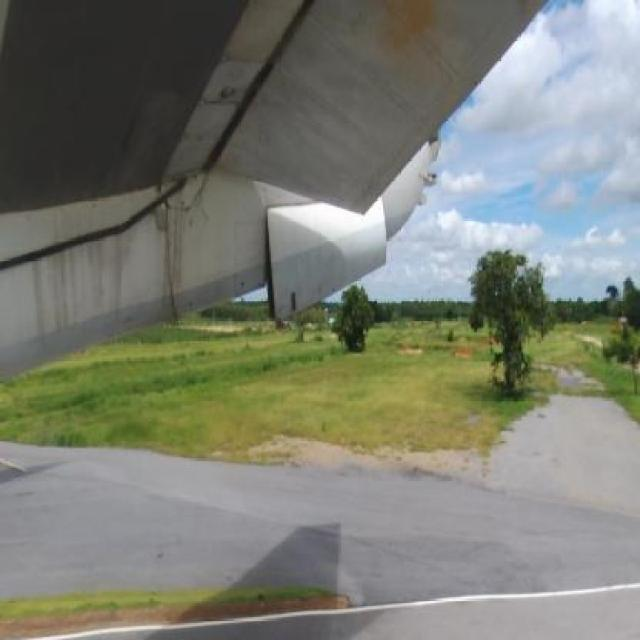Rust: (24, 220, 148, 346), (348, 2, 468, 126), (152, 188, 212, 334), (214, 18, 274, 84)
